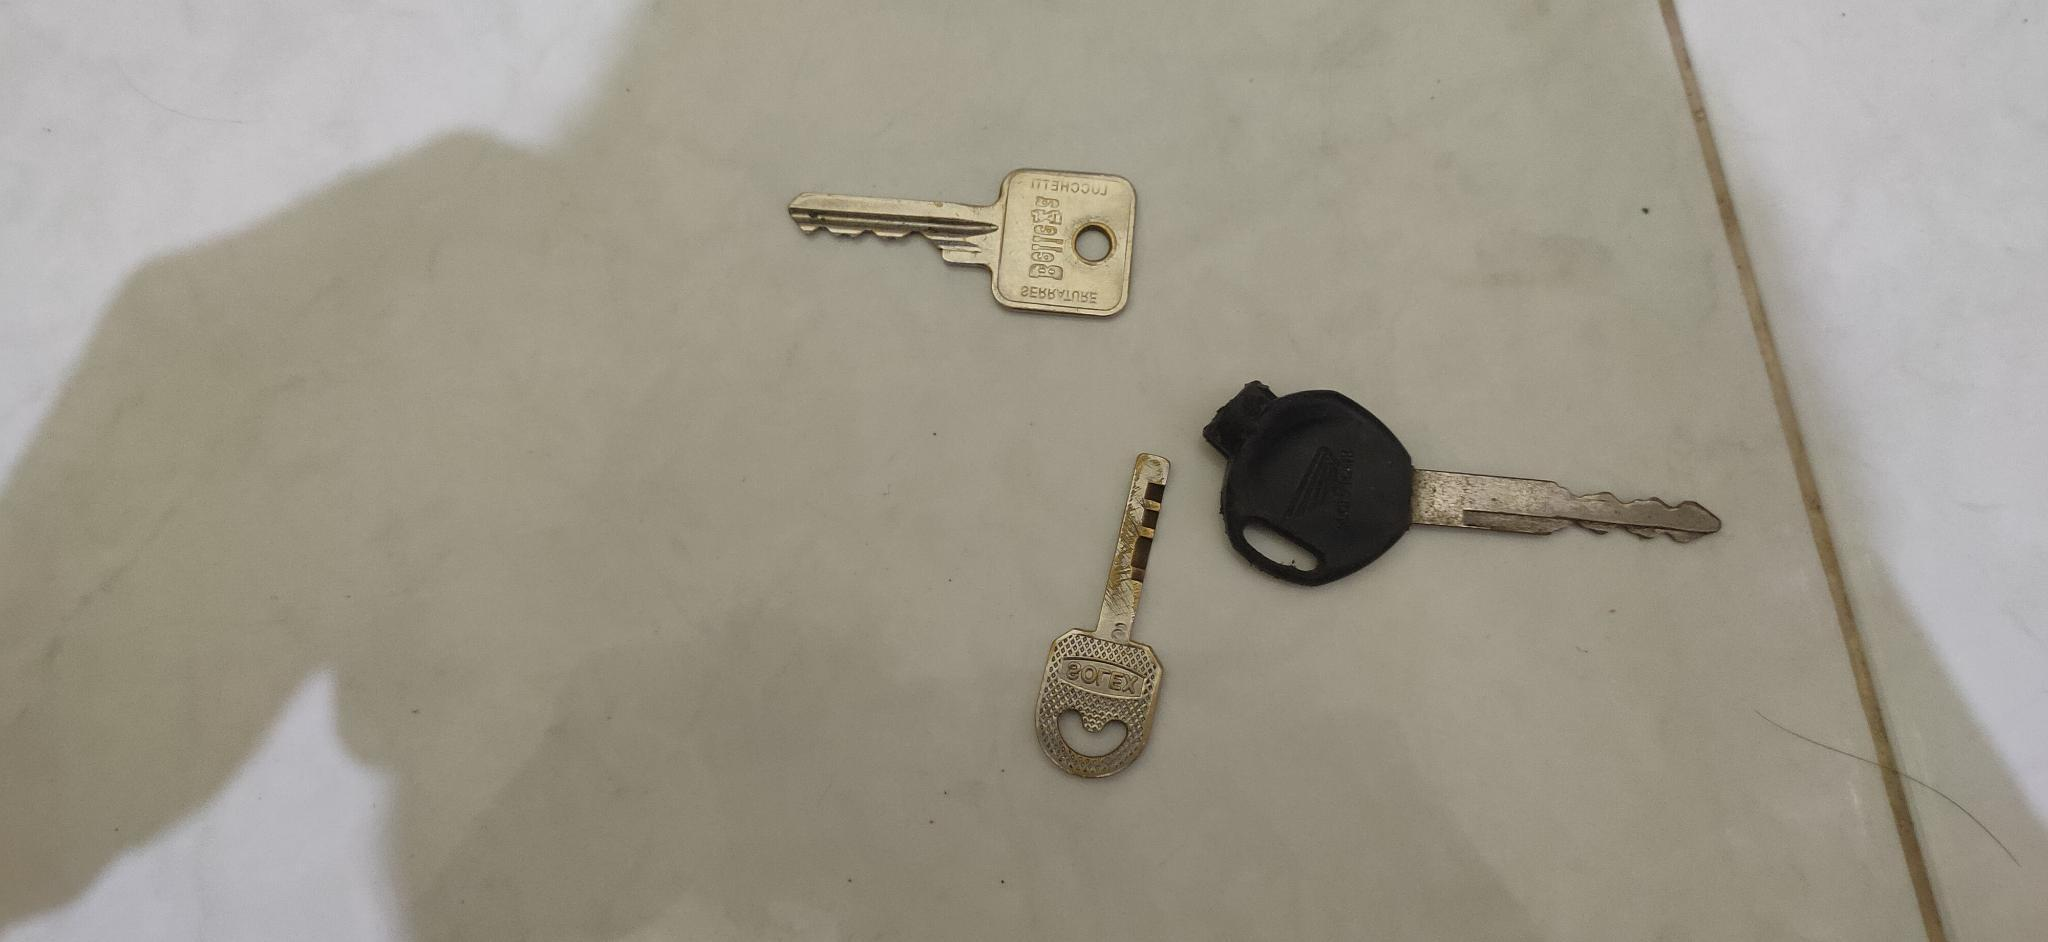keys: (1179, 374, 1731, 588), (776, 154, 1145, 325), (1019, 444, 1187, 790)
